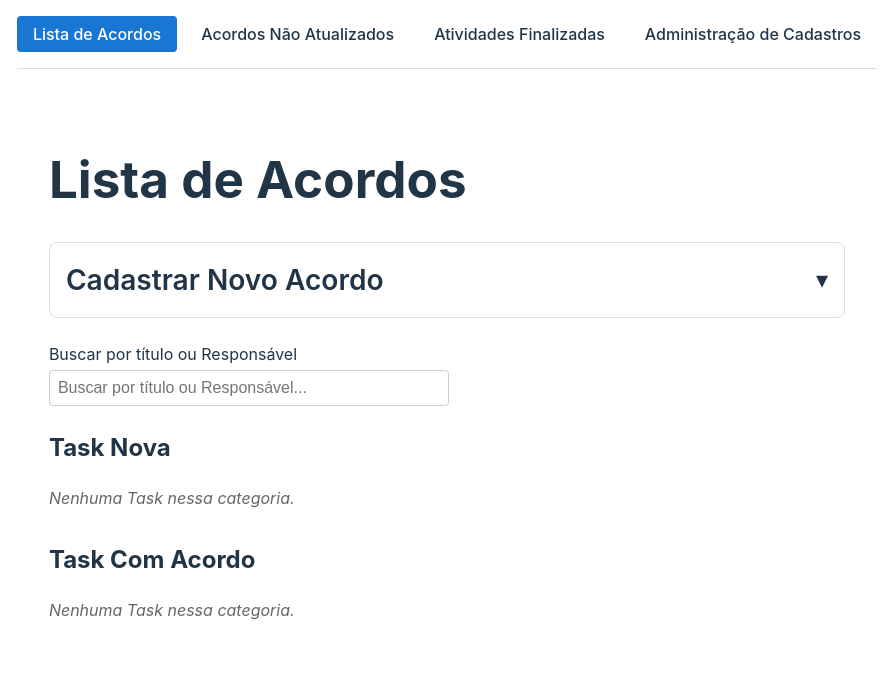
Scenario: project setup › navega para a Administração de Cadastros e de volta para a Lista de Acordos (tarefa 28.1)
Expected: the heading "Lista de Acordos" is shown, [49,148,467,210]
Click the button with test id "nav-administracao-de-cadastros". click: (753, 34)
box: [629,16,877,52]
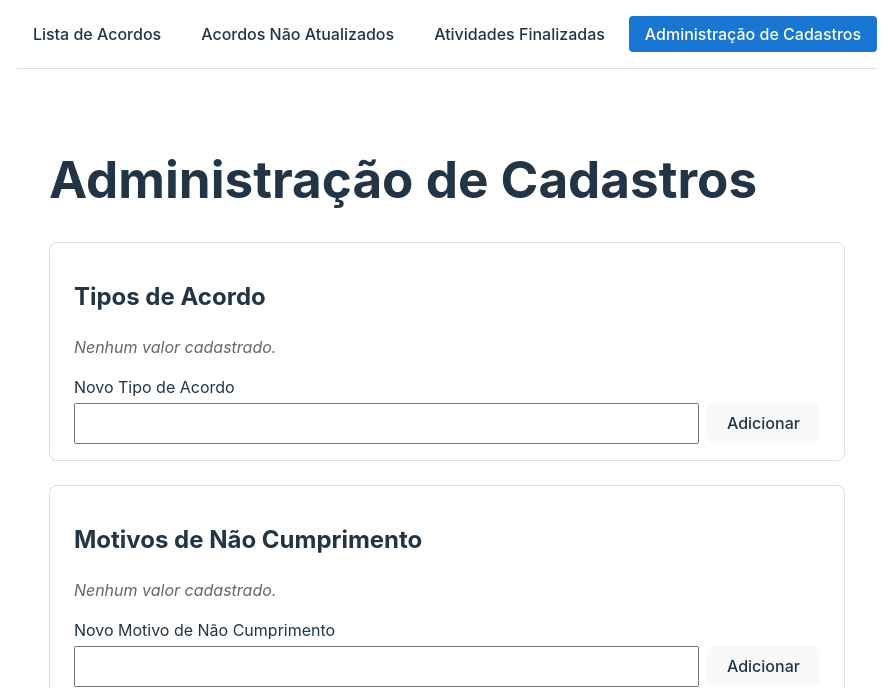
Expected: the heading "Administração de Cadastros" is shown, [49,151,845,208]
Click the button with test id "nav-lista-de-acordos". click: (97, 34)
box: [17,16,177,52]
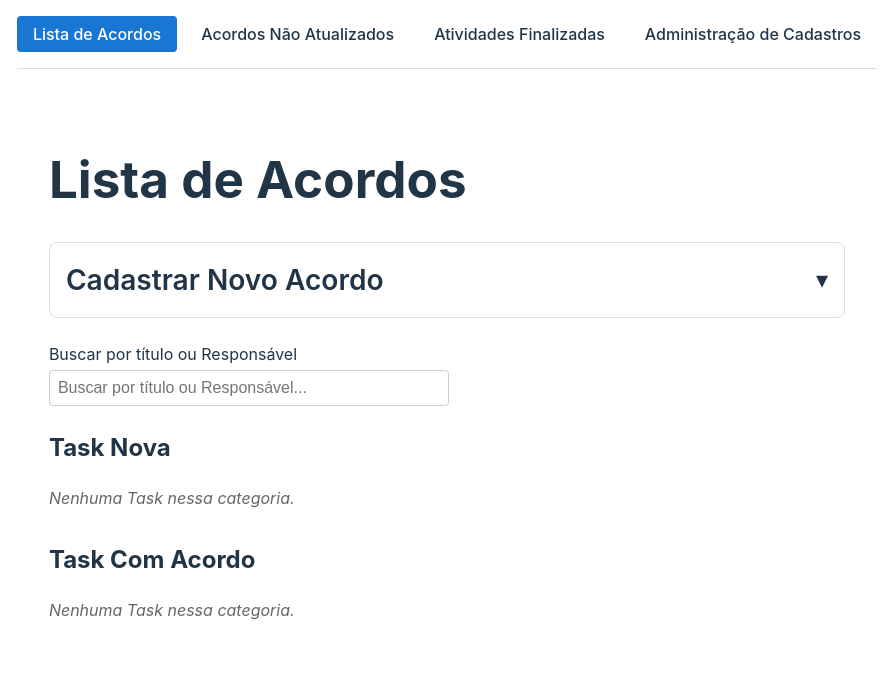
Expected: the heading "Lista de Acordos" is shown, [49,148,467,210]
